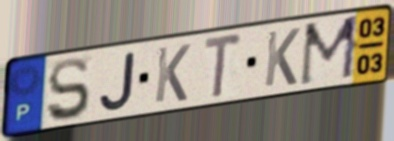J: (97, 49, 137, 113)
K: (152, 42, 193, 106), (262, 26, 302, 89)
M: (297, 12, 363, 90)
S: (45, 55, 92, 124)
T: (202, 30, 245, 102)
